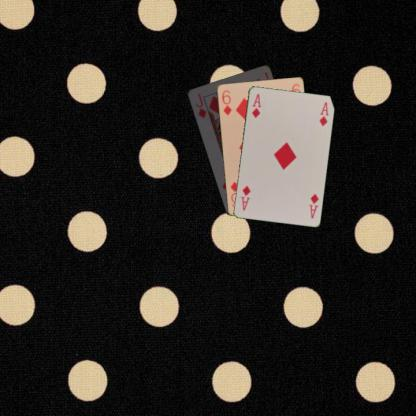6d: (219, 87, 233, 117)
Ad: (306, 191, 320, 219), (249, 91, 262, 119)
Jd: (193, 91, 207, 119)
